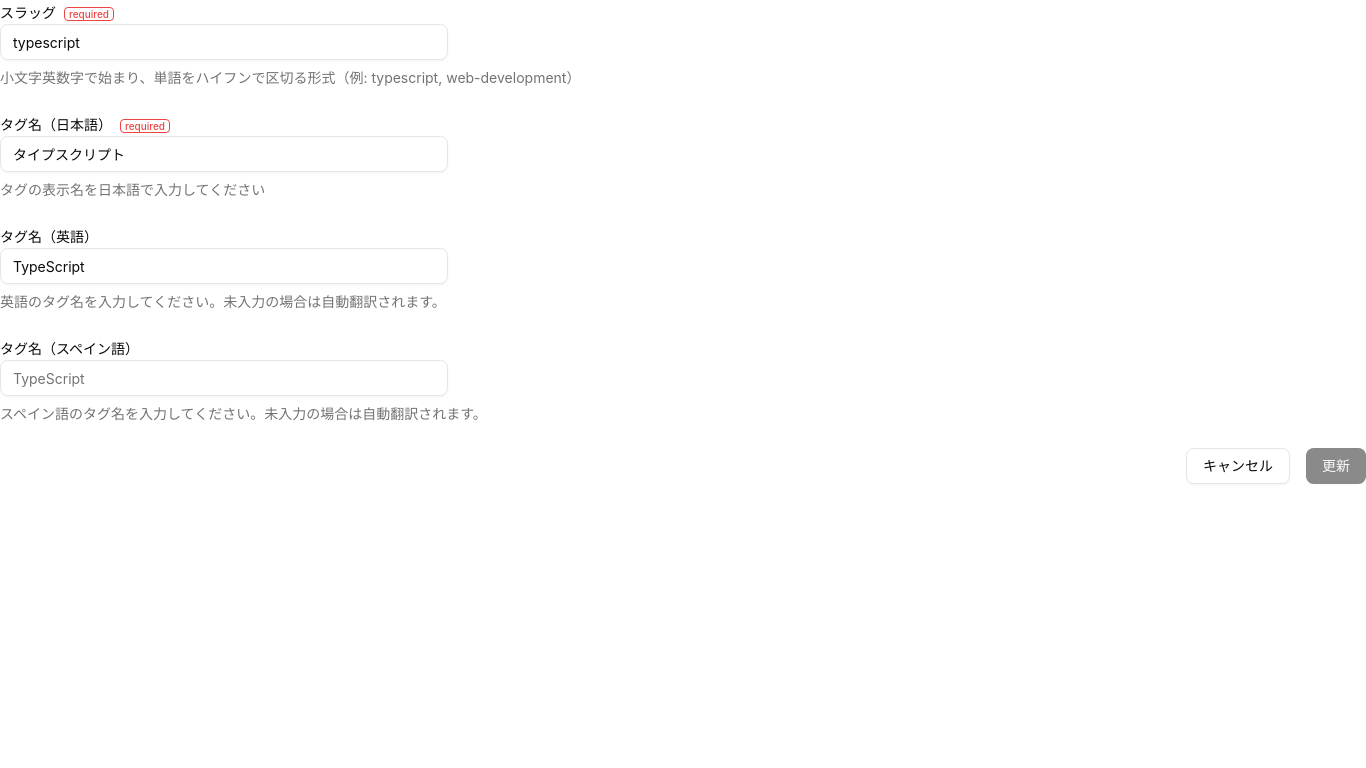
Test: TagUpdateForm › Integration Test › 未保存変更アラート › タグ名を変更してキャンセルするとアラートダイアログが表示される
In the field with placeholder "タイプスクリプト": (224, 154) [0,136,448,172], type "変更されたタグ名"
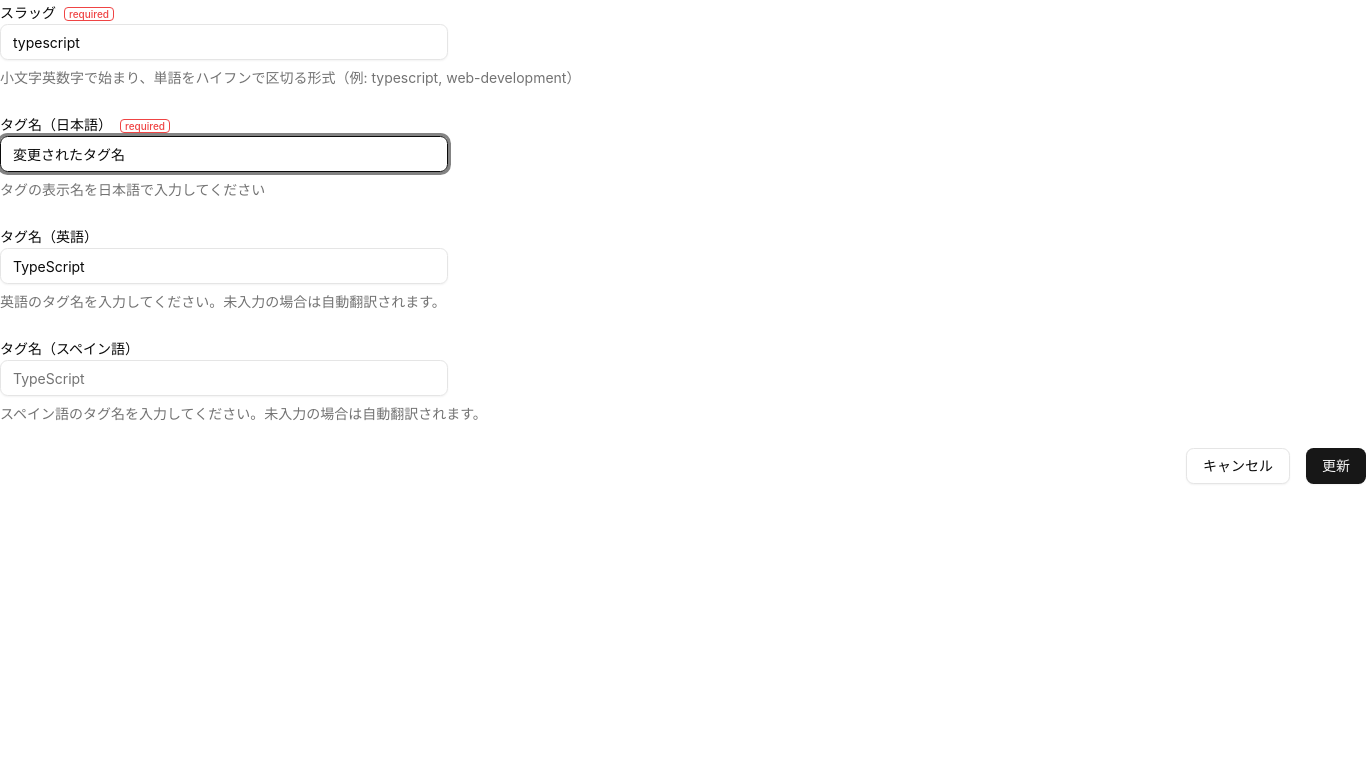
Click the button "キャンセル": (1238, 466) [1186,448,1290,484]
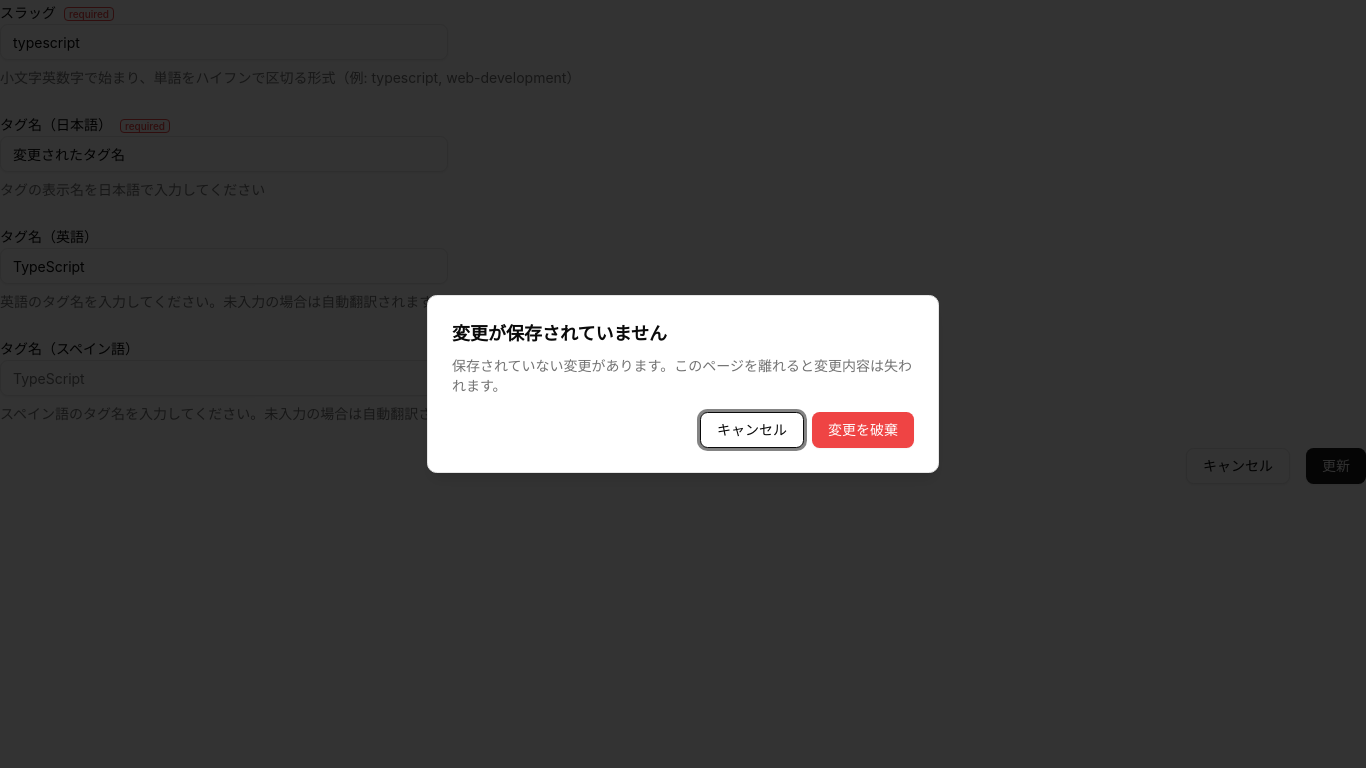
Expected: the heading "変更が保存されていません" is shown, [452,323,667,344]
